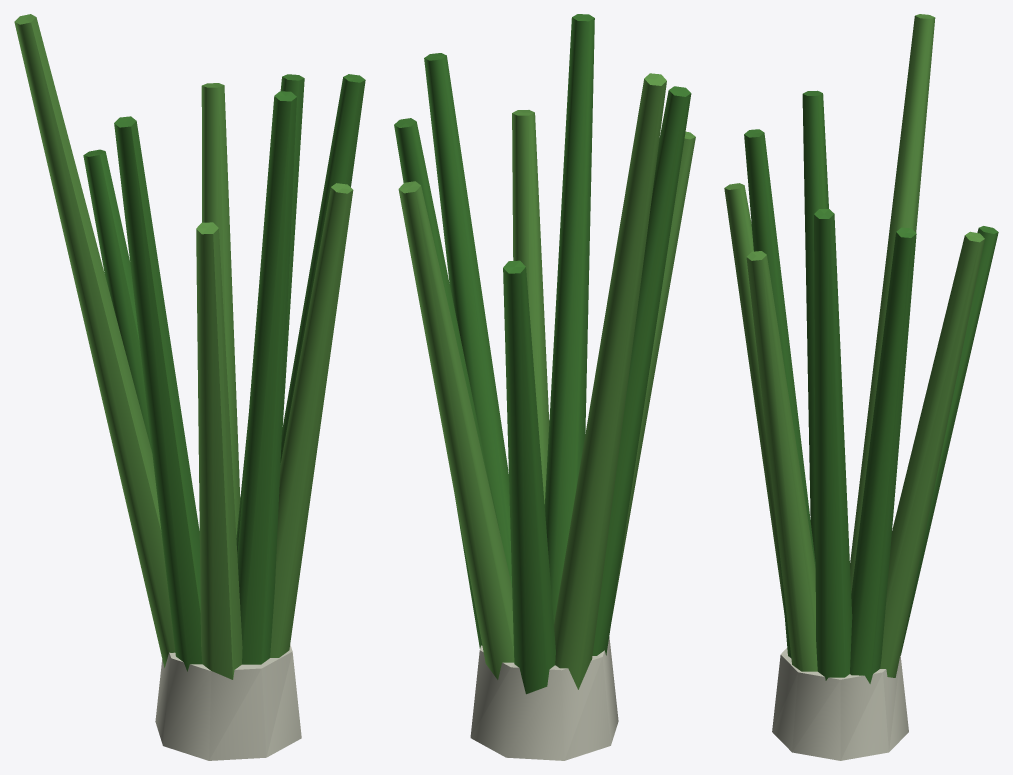
Rendered from crop-scallion-ready.glb.
The picture shows the model from 3 angles, left to right: view 1: azimuth 30°, elevation 25°; view 2: azimuth 150°, elevation 25°; view 3: azimuth 270°, elevation 25°; orthographic projection. The views are drawn at different scales.
Visible parts, largest first — view 1: crop-scallion-ready-kit; view 2: crop-scallion-ready-kit; view 3: crop-scallion-ready-kit.
Part boxes in pixels (x1=…): crop-scallion-ready-kit: x1=14, y1=14, x2=365, y2=760; crop-scallion-ready-kit: x1=394, y1=14, x2=695, y2=760; crop-scallion-ready-kit: x1=724, y1=14, x2=998, y2=760.
Size of the model in its own units: 0.3536 by 0.8358 by 0.3204.
